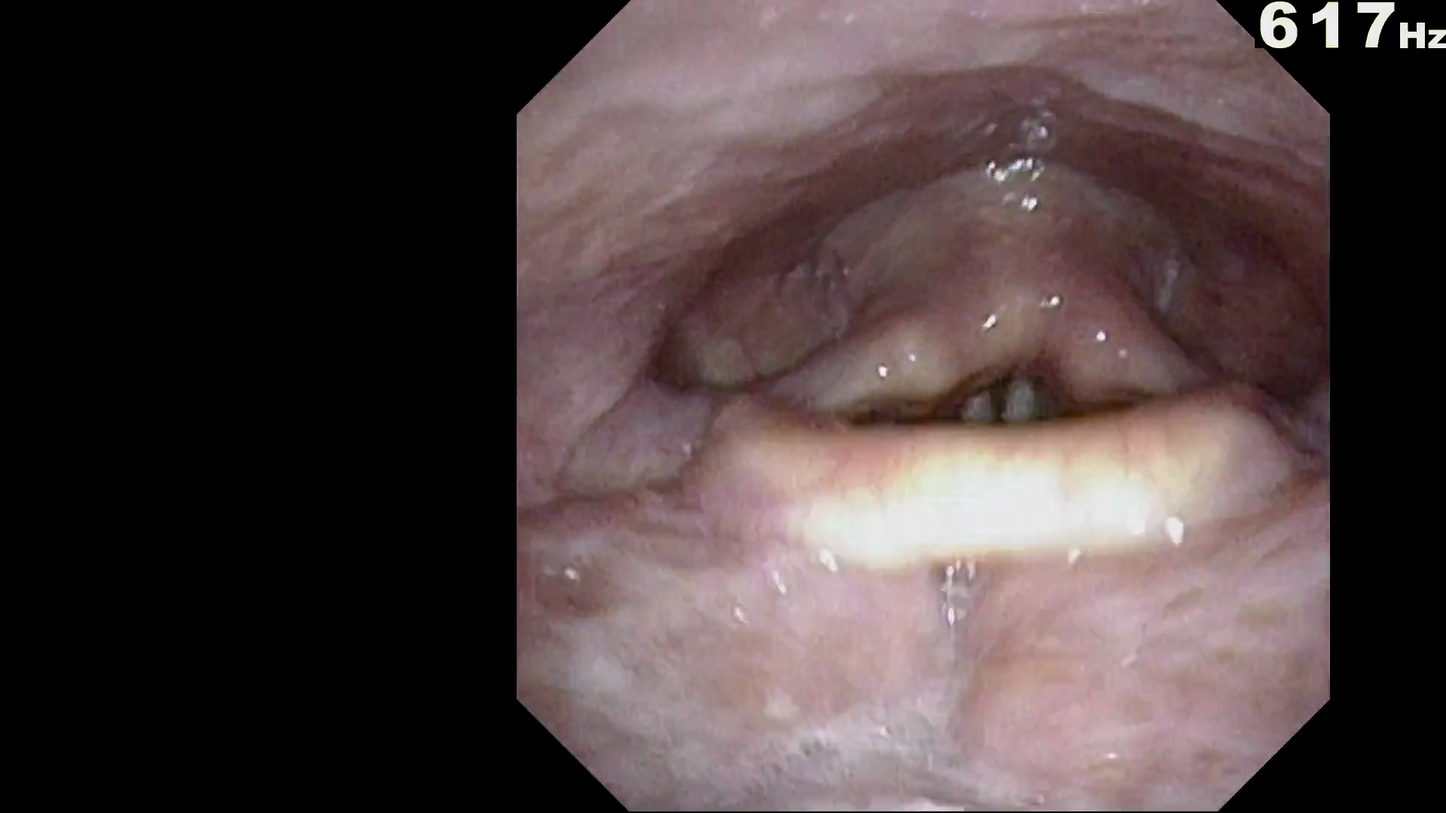epiglottis: (715, 370, 1286, 630)
trachea: (939, 341, 1061, 470)
